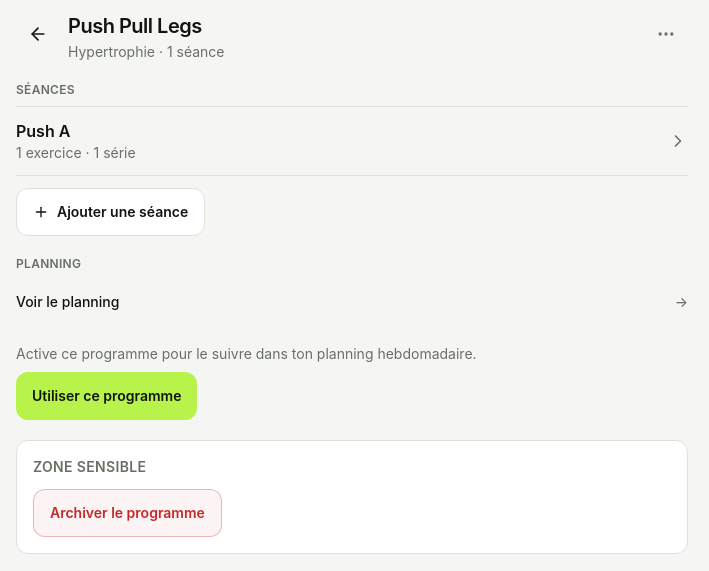
Scenario: ProgramDetailPage › shows program detail and session list
Expected: the heading "Push Pull Legs" is shown, [68,12,202,40]
Expected: the text "Push A" is shown, [16,121,70,141]
Click the button named "Actions du programme".
click(666, 34)  # box [644,12,688,56]
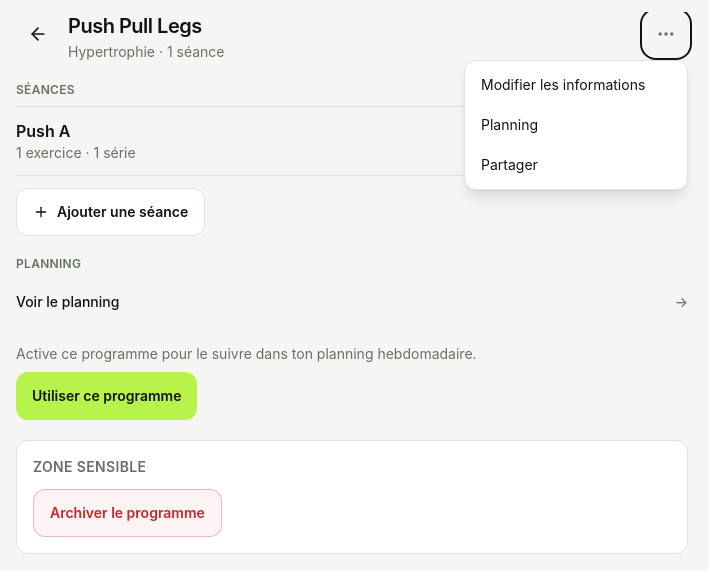
Expected: the menu item "Modifier les informations" is shown, [481,76,645,93]
